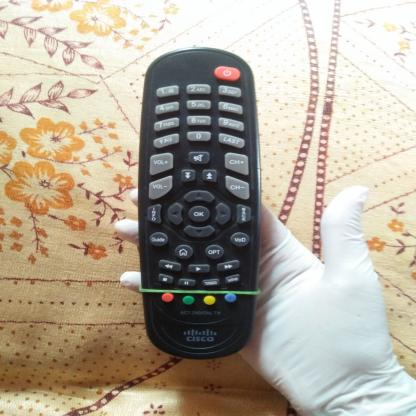gloved_hand: (110, 151, 412, 415)
